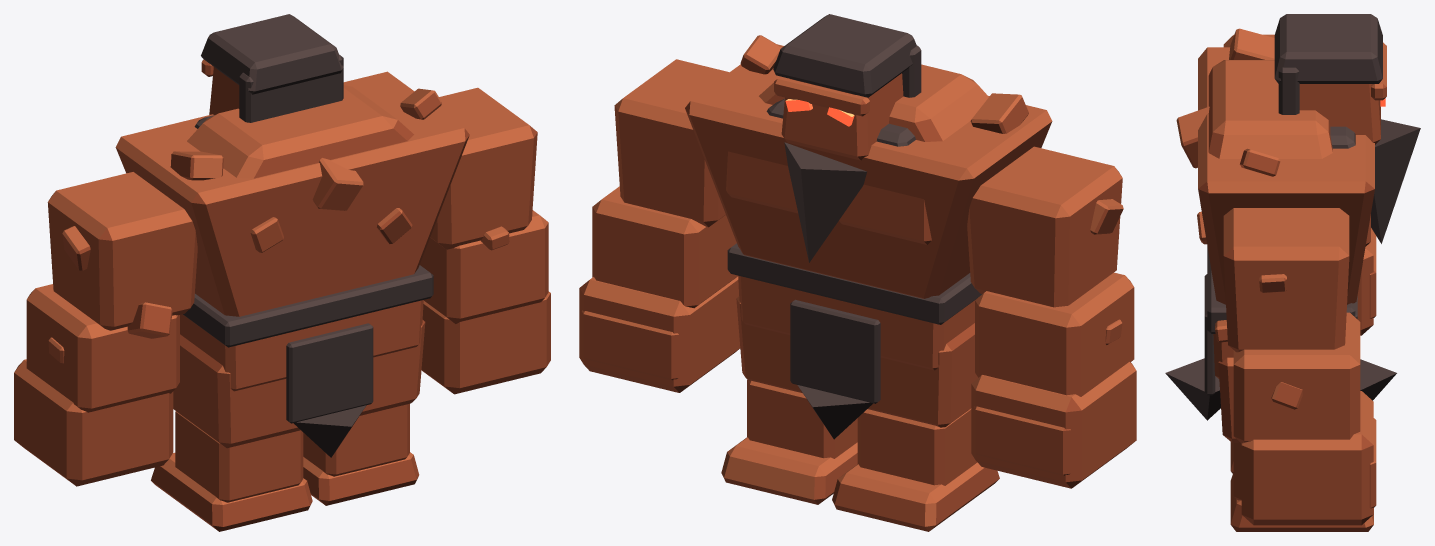
File: red_titan.glb
3 renders of one model, left to right at view 1: azimuth 30°, elevation 25°; view 2: azimuth 150°, elevation 25°; view 3: azimuth 270°, elevation 25°, orthographic. The views are drawn at different scales.
Visible parts, largest first — view 1: Torso, ArmL, ArmR, Hips, LegL, LegR; view 2: Torso, ArmL, ArmR, Hips, LegL, LegR; view 3: ArmR, Torso, Hips, LegR, ArmL.
Boxes of the visible parts, x1=… form: Torso: x1=115, y1=14, x2=469, y2=316; ArmL: x1=14, y1=172, x2=197, y2=486; ArmR: x1=419, y1=87, x2=550, y2=394; Hips: x1=180, y1=265, x2=433, y2=457; LegL: x1=151, y1=334, x2=312, y2=531; LegR: x1=303, y1=320, x2=425, y2=505; Torso: x1=685, y1=14, x2=1052, y2=298; ArmL: x1=967, y1=146, x2=1136, y2=488; ArmR: x1=579, y1=59, x2=740, y2=392; Hips: x1=727, y1=243, x2=981, y2=439; LegL: x1=832, y1=323, x2=999, y2=531; LegR: x1=721, y1=296, x2=857, y2=504; ArmR: x1=1215, y1=208, x2=1376, y2=525; Torso: x1=1176, y1=14, x2=1420, y2=304; Hips: x1=1165, y1=246, x2=1396, y2=420; LegR: x1=1218, y1=357, x2=1373, y2=531; ArmL: x1=1223, y1=34, x2=1376, y2=335.
Bounding box in the file's own units: 2.18 × 1.88 × 0.9685.
